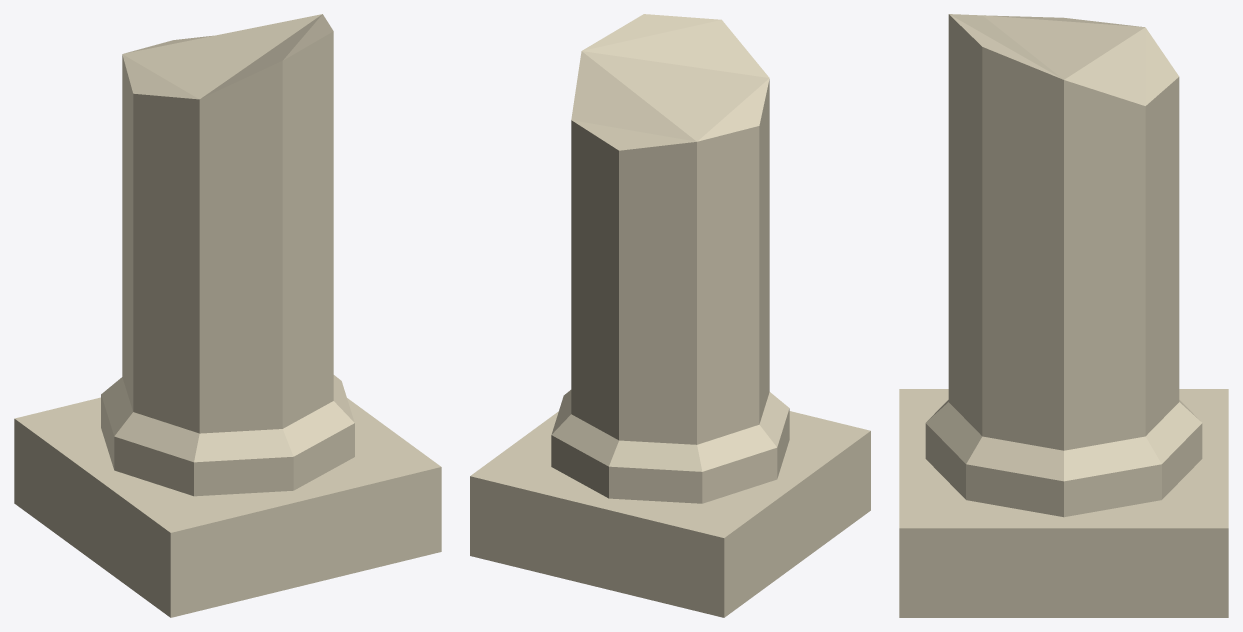
Rendered from roman_column_broken_base.fbx.
The picture shows the model from 3 angles, left to right: view 1: azimuth 30°, elevation 25°; view 2: azimuth 150°, elevation 25°; view 3: azimuth 270°, elevation 25°; orthographic projection. The views are drawn at different scales.
Parts seen in each view (by area): view 1: Cylinder.009; view 2: Cylinder.009; view 3: Cylinder.009.
Part boxes in pixels (box(x1,y1,x2,y2)): Cylinder.009: box(14, 14, 441, 617); Cylinder.009: box(470, 14, 870, 617); Cylinder.009: box(899, 14, 1228, 617).
Size of the model in its own units: 1 by 1.79 by 1.
